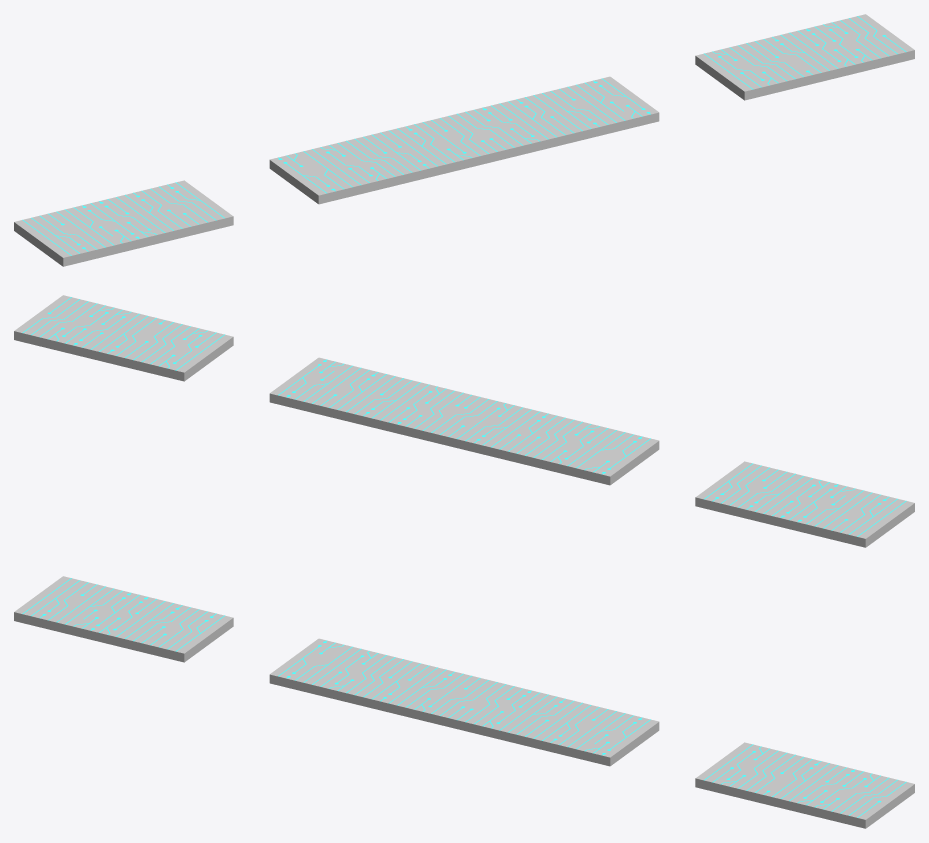
File: floor_metallic3.glb
3 views of the same model, one above another, from view 1: azimuth 30°, elevation 25°; view 2: azimuth 150°, elevation 25°; view 3: azimuth 330°, elevation 25° (orthographic).
Visible parts, largest first — view 1: Cube.002, Sphere.006; view 2: Cube.002, Sphere.006; view 3: Cube.002, Sphere.006.
Boxes of the visible parts, box(x1,y1,x2,y2) form: Cube.002: box(14, 14, 914, 266); Sphere.006: box(22, 16, 906, 255); Cube.002: box(14, 295, 914, 547); Sphere.006: box(22, 297, 906, 536); Cube.002: box(14, 576, 914, 828); Sphere.006: box(22, 578, 906, 817).
Size of the model in its own units: 200 by 2.05 by 20.
